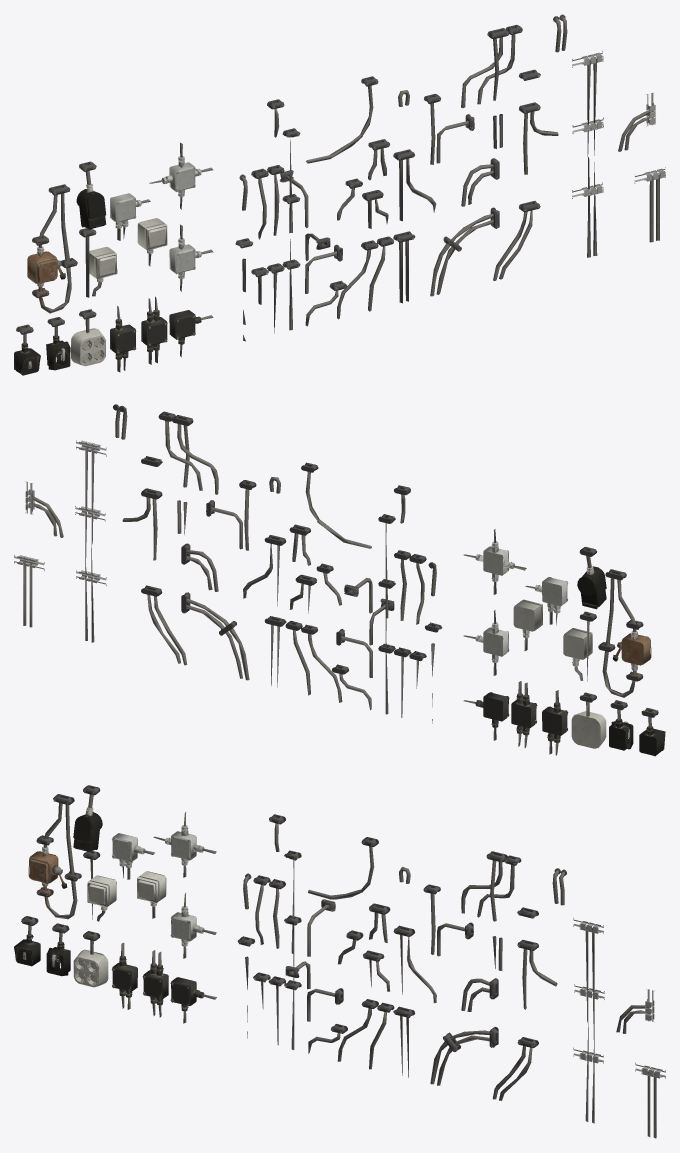
Rendered from modular_electric_cables.glb.
3 views of the same model, one above another, from view 1: azimuth 30°, elevation 25°; view 2: azimuth 150°, elevation 25°; view 3: azimuth 330°, elevation 25° (orthographic).
Visible parts, largest first — view 1: cable_switch, cable_double_alt_long, cable_plug_4x, cable_3way_junction, cable_lightswitch_double, cable_plug_covered_2, cable_double_turn_long, cable_box_double, cable_box_4way, cable_box_double_to_single, cable_box_3way, cable_lightswitch (+14 smaller); view 2: cable_switch, cable_double_alt_long, cable_3way_junction, cable_plug_4x, cable_plug_covered_2, cable_double_turn_long, cable_lightswitch_double, cable_box_double, cable_box_4way, cable_box_double_to_single, cable_lightswitch, cable_box_3way (+13 smaller); view 3: cable_switch, cable_double_alt_long, cable_plug_4x, cable_3way_junction, cable_plug_covered_2, cable_double_turn_long, cable_lightswitch_double, cable_box_double, cable_box_4way, cable_box_3way, cable_box_double_to_single, cable_box_double_to_single_2 (+13 smaller).
Part boxes in pixels (bbox=[...]): cable_switch: bbox=[27, 184, 77, 313]; cable_double_alt_long: bbox=[572, 51, 603, 257]; cable_plug_4x: bbox=[71, 309, 105, 366]; cable_3way_junction: bbox=[461, 24, 522, 108]; cable_lightswitch_double: bbox=[79, 228, 117, 297]; cable_plug_covered_2: bbox=[76, 161, 106, 229]; cable_double_turn_long: bbox=[430, 207, 499, 296]; cable_box_double: bbox=[141, 296, 167, 364]; cable_box_4way: bbox=[149, 142, 212, 209]; cable_box_double_to_single: bbox=[110, 306, 136, 372]; cable_box_3way: bbox=[169, 224, 213, 291]; cable_lightswitch: bbox=[137, 218, 167, 266]; cable_switch: bbox=[598, 569, 651, 697]; cable_double_alt_long: bbox=[75, 440, 106, 642]; cable_3way_junction: bbox=[158, 411, 218, 494]; cable_plug_4x: bbox=[571, 692, 606, 748]; cable_plug_covered_2: bbox=[577, 547, 606, 609]; cable_double_turn_long: bbox=[181, 592, 249, 680]; cable_lightswitch_double: bbox=[563, 611, 596, 681]; cable_box_double: bbox=[511, 681, 537, 747]; cable_box_4way: bbox=[463, 529, 526, 594]; cable_box_double_to_single: bbox=[542, 690, 568, 755]; cable_lightswitch: bbox=[513, 599, 542, 650]; cable_box_3way: bbox=[463, 610, 509, 675]; cable_switch: bbox=[28, 794, 81, 919]; cable_double_alt_long: bbox=[573, 918, 604, 1123]; cable_plug_4x: bbox=[73, 931, 108, 987]; cable_3way_junction: bbox=[461, 851, 521, 921]; cable_plug_covered_2: bbox=[73, 785, 102, 851]; cable_double_turn_long: bbox=[430, 1027, 498, 1085]; cable_lightswitch_double: bbox=[83, 851, 116, 921]; cable_box_double: bbox=[142, 950, 168, 1017]; cable_box_4way: bbox=[153, 812, 216, 877]; cable_box_3way: bbox=[170, 893, 216, 958]; cable_box_double_to_single: bbox=[111, 942, 137, 1009]; cable_box_double_to_single_2: bbox=[111, 833, 154, 879].
Size of the model in its own units: 2.08 by 0.7598 by 0.217.
2 materials, 2 textured.
